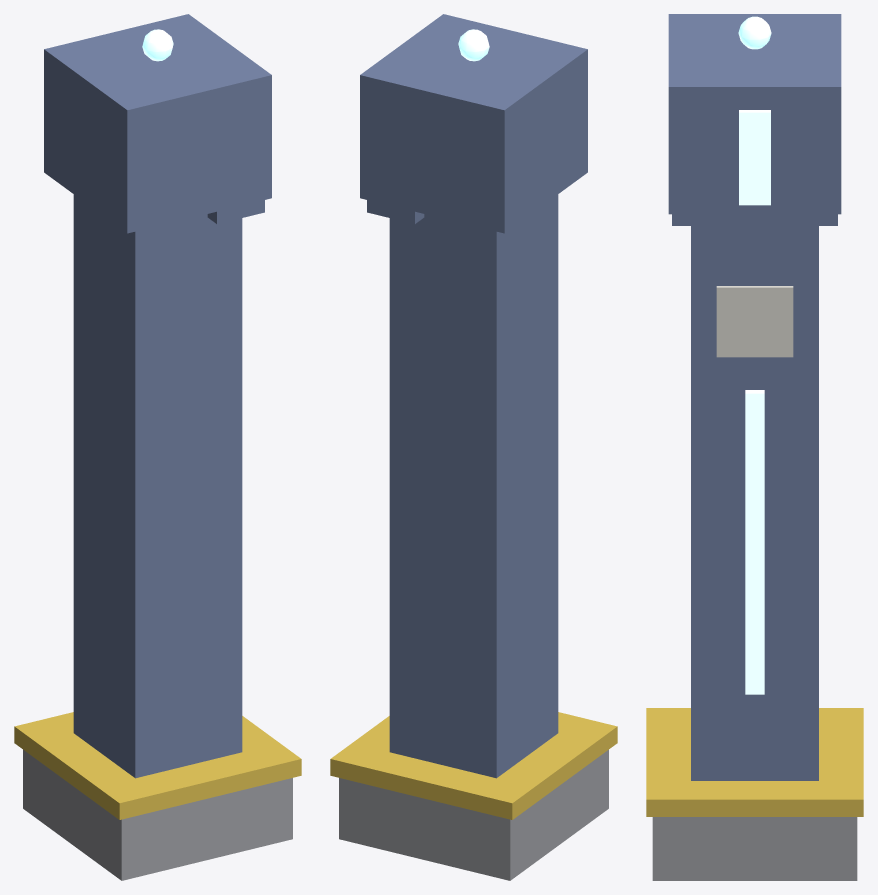
File: render.glb
3 renders of one model, left to right at view 1: azimuth 30°, elevation 25°; view 2: azimuth 150°, elevation 25°; view 3: azimuth 270°, elevation 25°, orthographic. The views are drawn at different scales.
Parts seen in each view (by area): view 1: column, head, base, base_hz, top, sensor1; view 2: column, head, base, base_hz, top, sensor0; view 3: column, head, base_hz, base, slot, crest, aperture, top.
Part boxes in pixels (x1,y1,x2,y2): column: (73,194,242,778); head: (44,14,271,233); base: (23,750,292,880); base_hz: (14,712,301,819); top: (142,29,173,61); sensor1: (207,200,264,223); column: (389,194,558,778); head: (360,14,587,233); base: (339,750,608,880); base_hz: (330,712,617,819); top: (458,29,489,61); sensor0: (367,200,424,223); column: (691,214,818,780); head: (668,14,841,214); base_hz: (646,708,863,816); base: (652,817,857,880); slot: (745,390,764,694); crest: (716,286,793,357); aperture: (739,110,770,205); top: (738,16,771,49).
Size of the model in its own units: 3.4 by 14.16 by 3.4.
